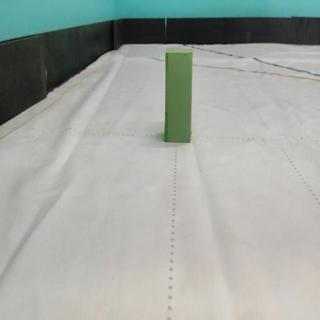greenbox: (165, 43, 192, 142)
